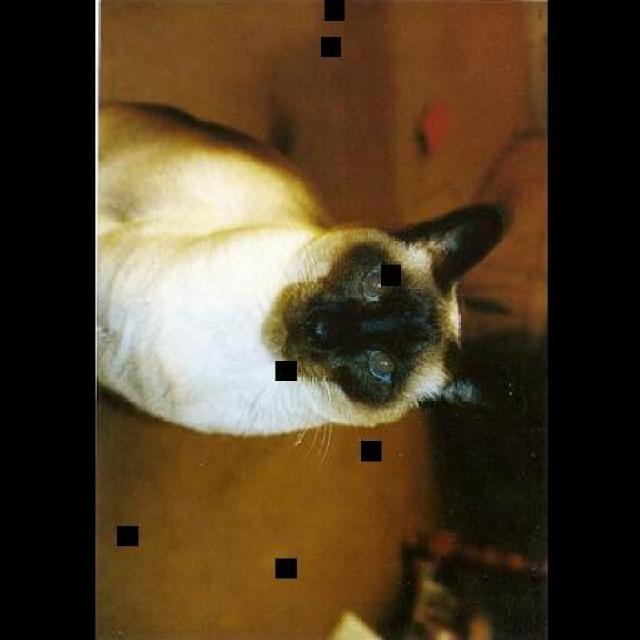unauthorized: (95, 96, 508, 464)
